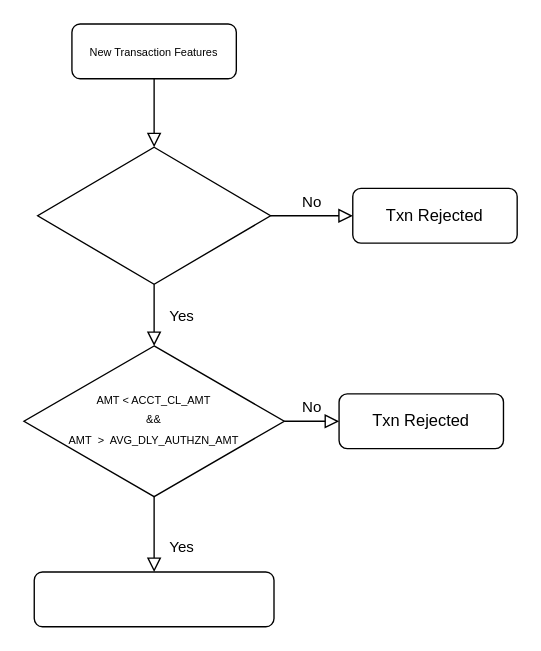
Image size: 541x651. Some labels were removed from this diagram. The shapes that lost their labels are listed below. From the top down, each one's centre as x and y in pixels, then its label:
(153,215): AMT < ACCT_AVL_CASH_BEFORE_AMT
(153,599): models://fraud_xgb_model_1/staging
